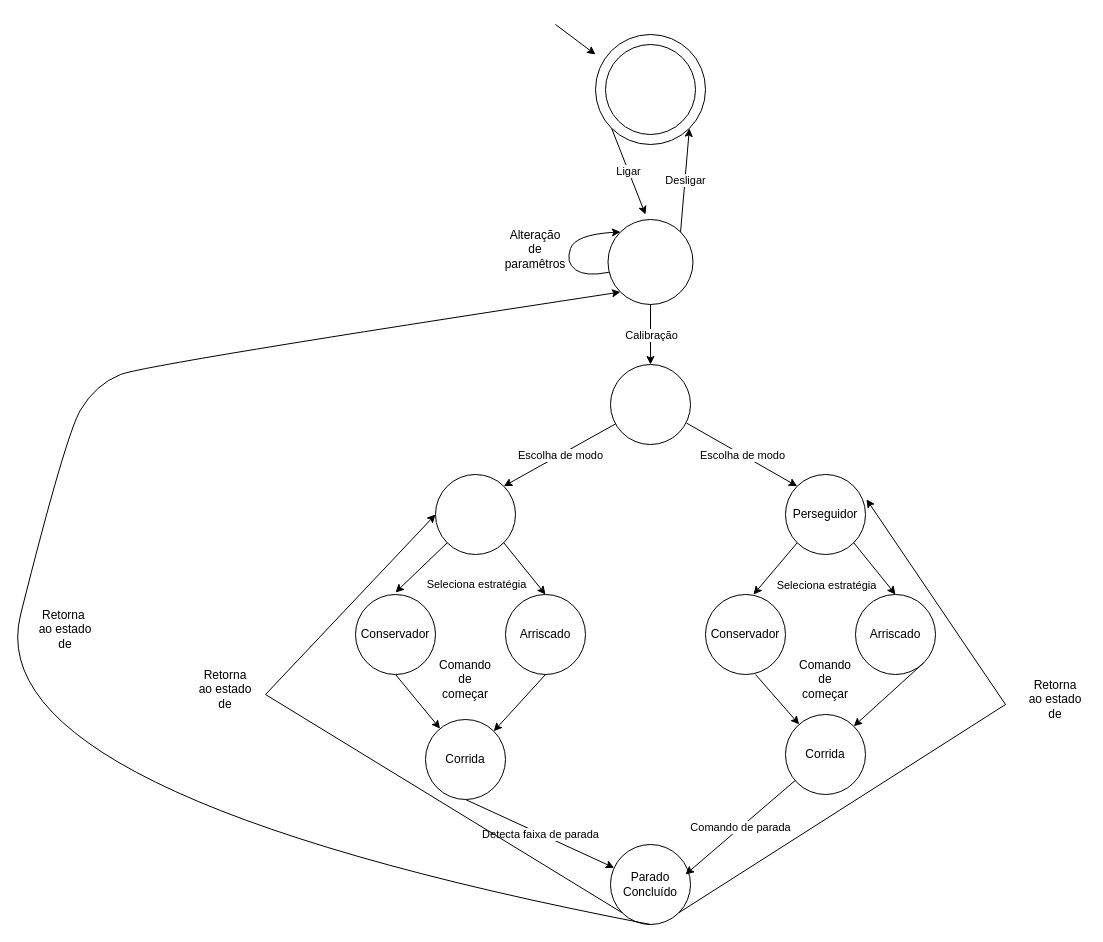
Some shapes in this 1103 by 942 pixel diagram are drawn without their labels. The centre of each missing label's shape, as x and y in pixels:
"Desligado" belongs at point 650,89.
"Parado Calibrado" belongs at point 650,404.
"Parado Ocioso" belongs at point 650,261.
"Seguidor de Linha" belongs at point 475,514.
